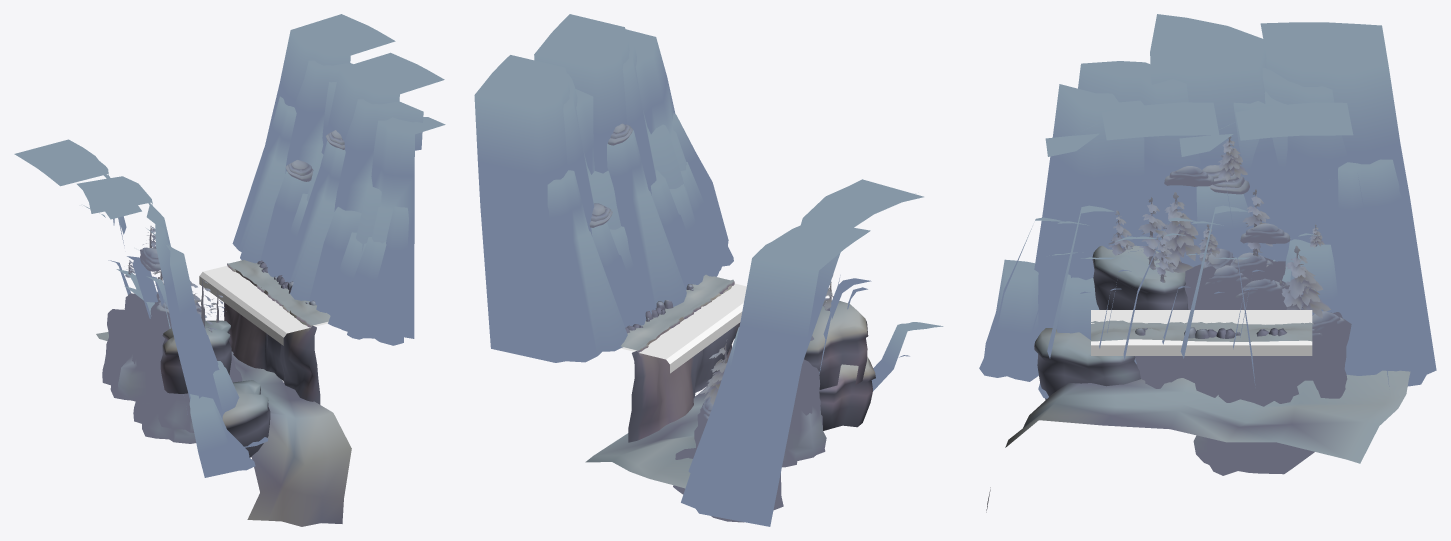
File: Arctic_Narrows_Left_Straight_A.glb
3 views of the same model, side by side, from view 1: azimuth 30°, elevation 25°; view 2: azimuth 150°, elevation 25°; view 3: azimuth 270°, elevation 25° (orthographic). The views are drawn at different scales.
Visible parts, largest first — view 1: Arctic_Narrows_Left_Straight_A, inv_fill; view 2: Arctic_Narrows_Left_Straight_A, inv_fill; view 3: Arctic_Narrows_Left_Straight_A, inv_fill.
Boxes of the visible parts, x1,y1,x2,y2 form: Arctic_Narrows_Left_Straight_A: [14, 14, 445, 526]; inv_fill: [199, 266, 328, 345]; Arctic_Narrows_Left_Straight_A: [474, 14, 943, 526]; inv_fill: [621, 283, 746, 373]; Arctic_Narrows_Left_Straight_A: [979, 14, 1436, 512]; inv_fill: [1091, 310, 1312, 355].
Size of what is drawn, in the model's own units: 24.55 by 25.9 by 22.33.
